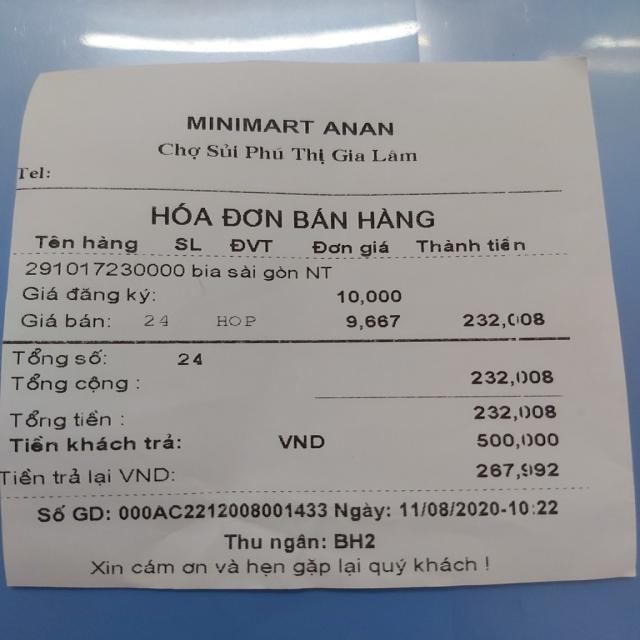Date: (397, 498, 502, 519)
Store_Name: (184, 110, 398, 142)
amount_number: (466, 365, 559, 389)
label_total: (4, 370, 131, 394)
